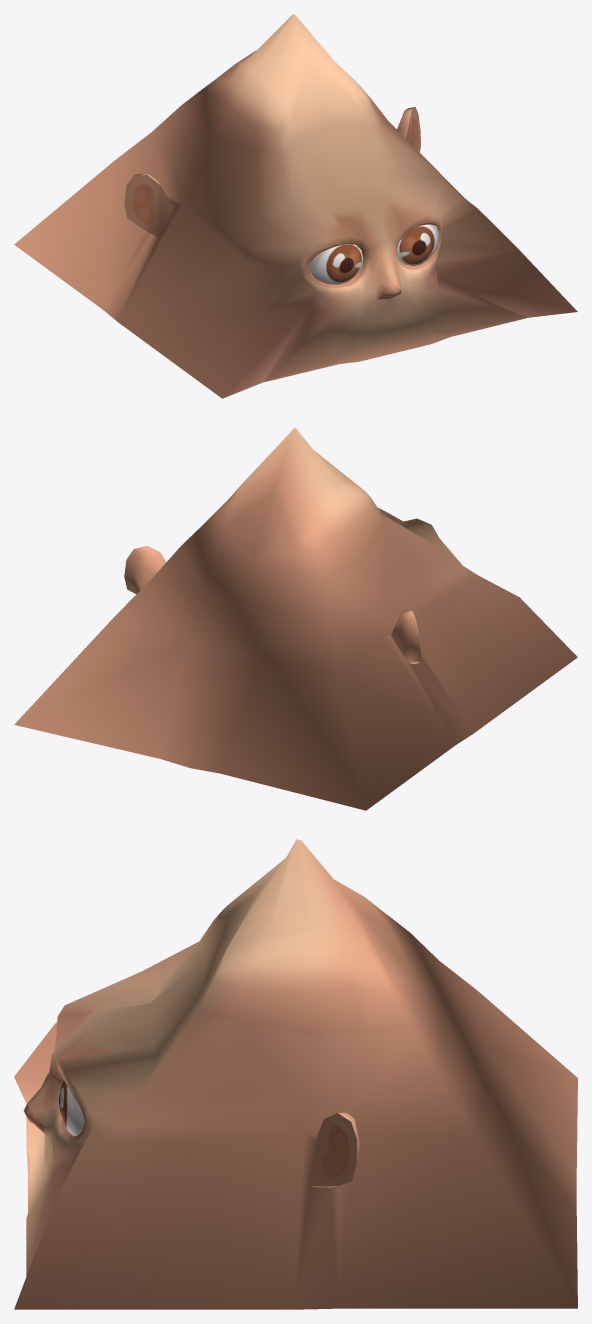
The model's file is triangleHead.fbx.
The picture shows the model from 3 angles, top to bottom: view 1: azimuth 30°, elevation 25°; view 2: azimuth 150°, elevation 25°; view 3: azimuth 270°, elevation 25°; orthographic projection. The views are drawn at different scales.
Visible parts, largest first — view 1: triangleHead; view 2: triangleHead; view 3: triangleHead.
Boxes of the visible parts, x1,y1,x2,y2 form: triangleHead: (14,14,577,398); triangleHead: (14,427,577,810); triangleHead: (14,839,577,1309).
Size of the model in its own units: 52.77 by 44.02 by 53.99.
